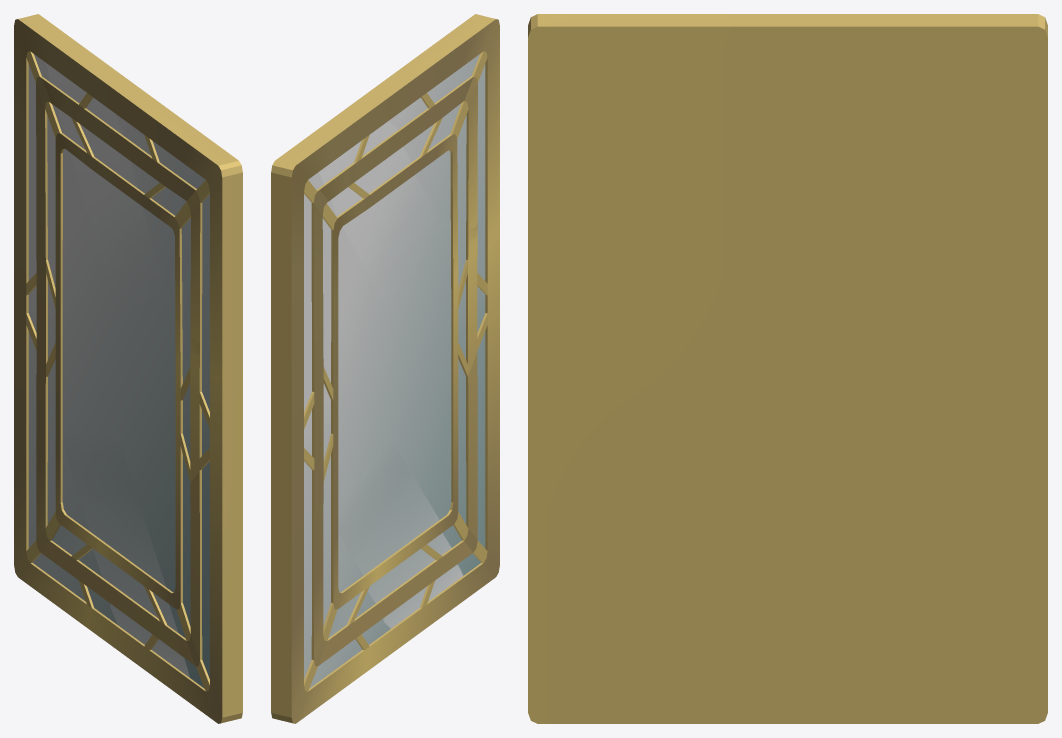
File: modern mirror.fbx
The picture shows the model from 3 angles, left to right: view 1: azimuth 30°, elevation 25°; view 2: azimuth 150°, elevation 25°; view 3: azimuth 270°, elevation 25°; orthographic projection. The views are drawn at different scales.
Visible parts, largest first — view 1: modern mirror; view 2: modern mirror; view 3: modern mirror.
Part boxes in pixels (left/top/right/bottom): modern mirror: left=14, top=14, right=242, bottom=723; modern mirror: left=271, top=14, right=499, bottom=723; modern mirror: left=528, top=14, right=1047, bottom=723.
Size of the model in its own units: 6.54 by 169 by 114.
Materials: 1 (1 with a texture image).
